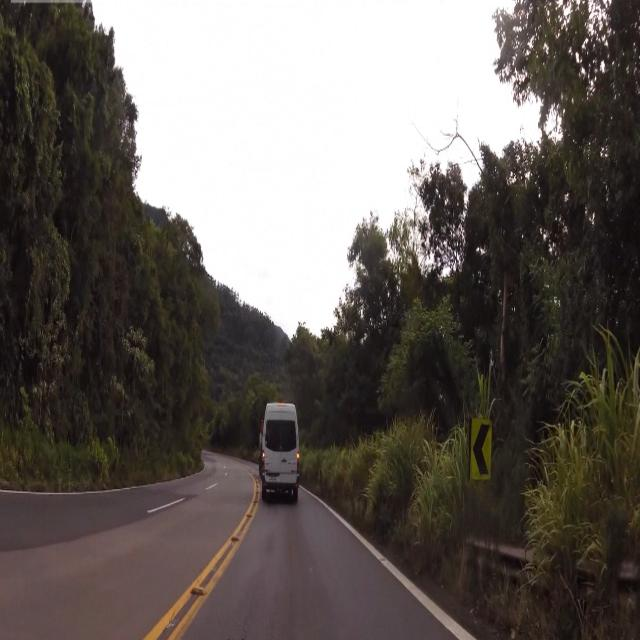Del: (468, 416, 495, 481)
